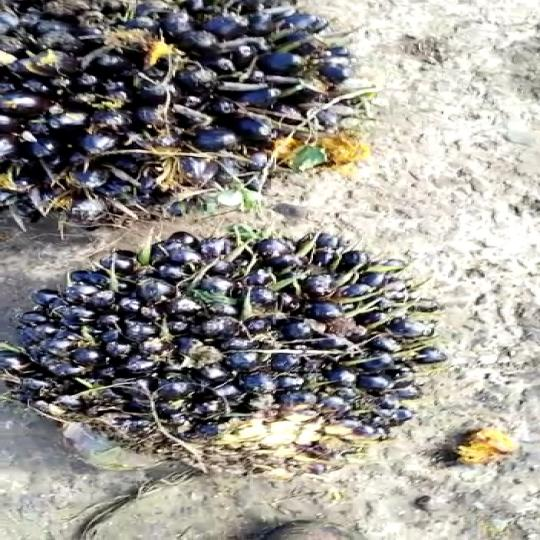mentah: (21, 226, 424, 481), (0, 0, 377, 244)
